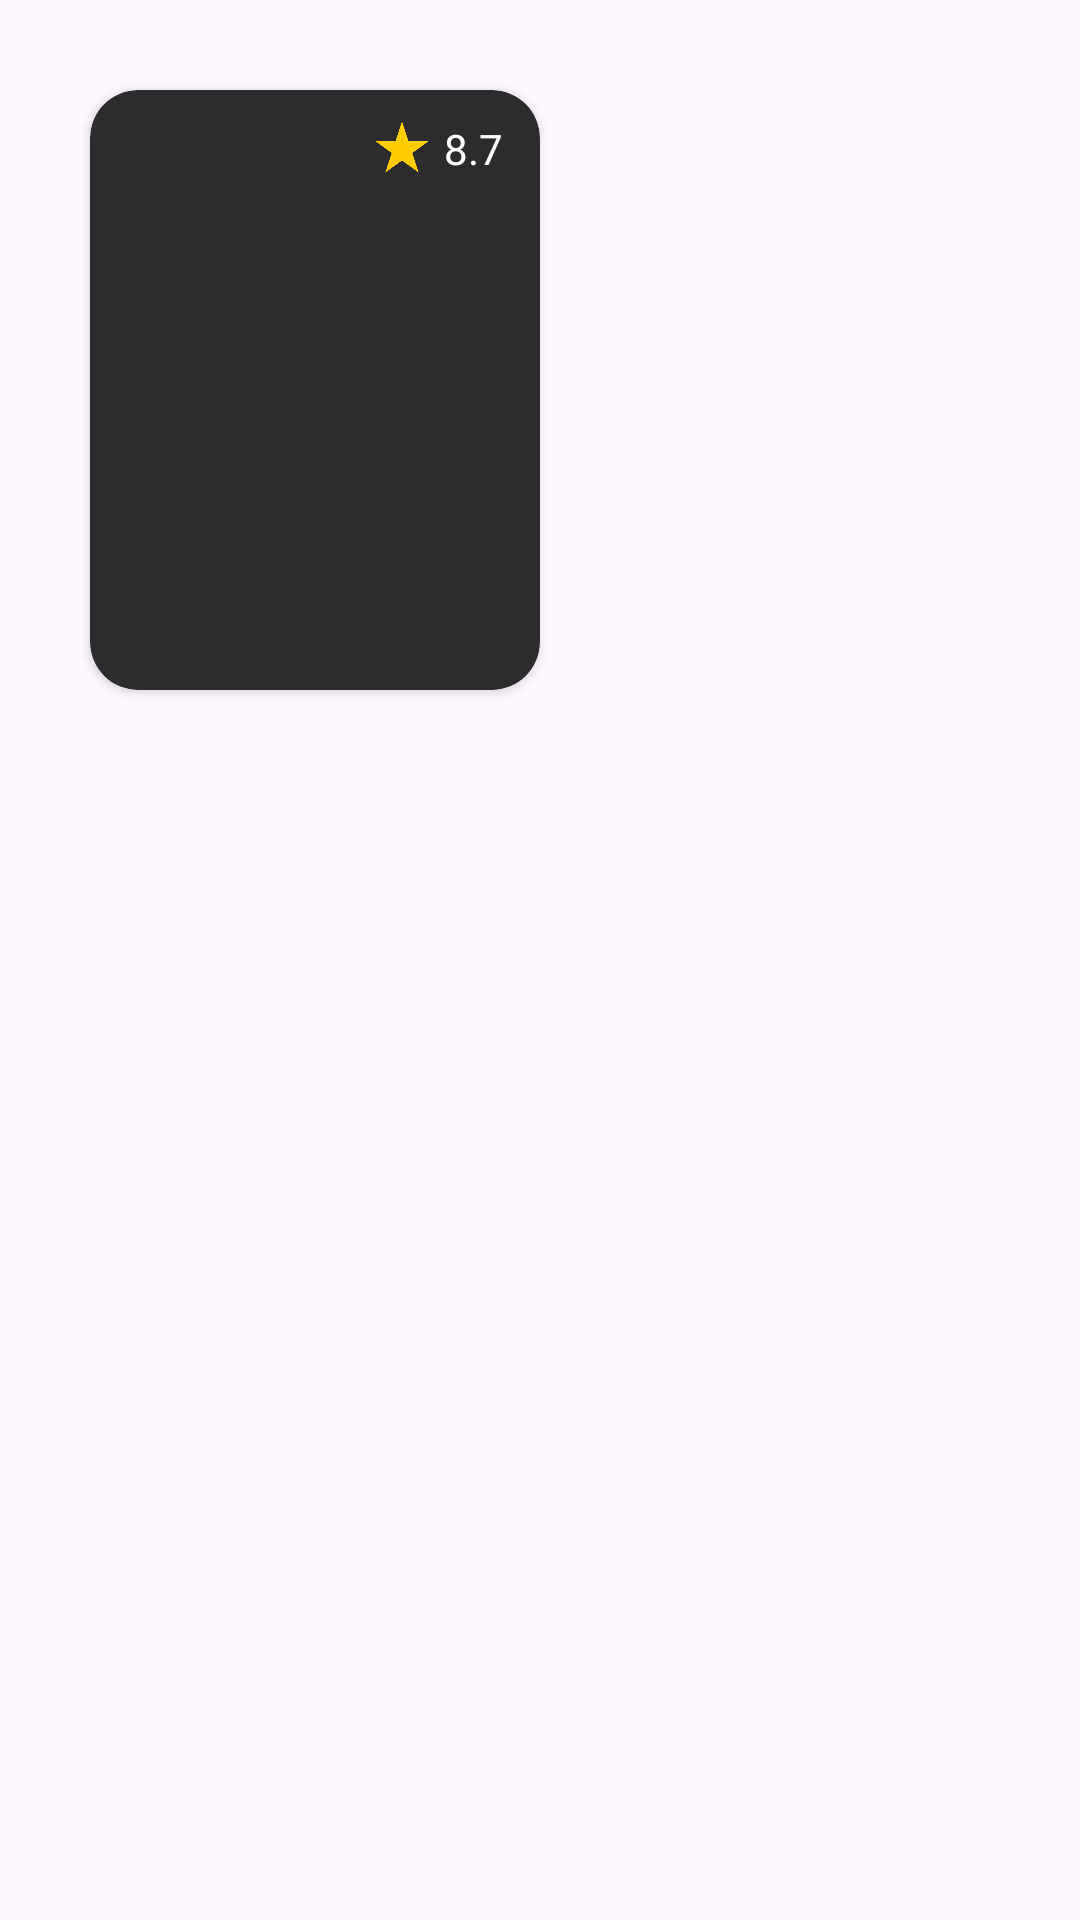

Icons on this 1080px×1920px Android screen, each with the point to tap as (x,y):
star: (402,147)
